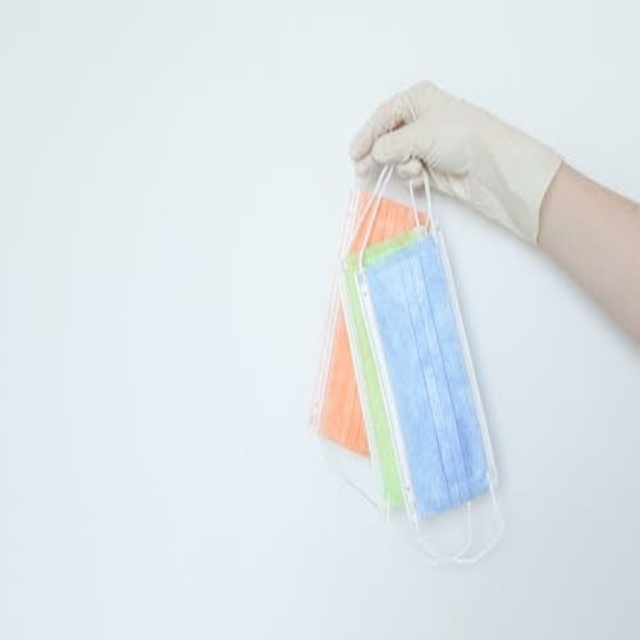Guantes: (349, 81, 561, 250)
